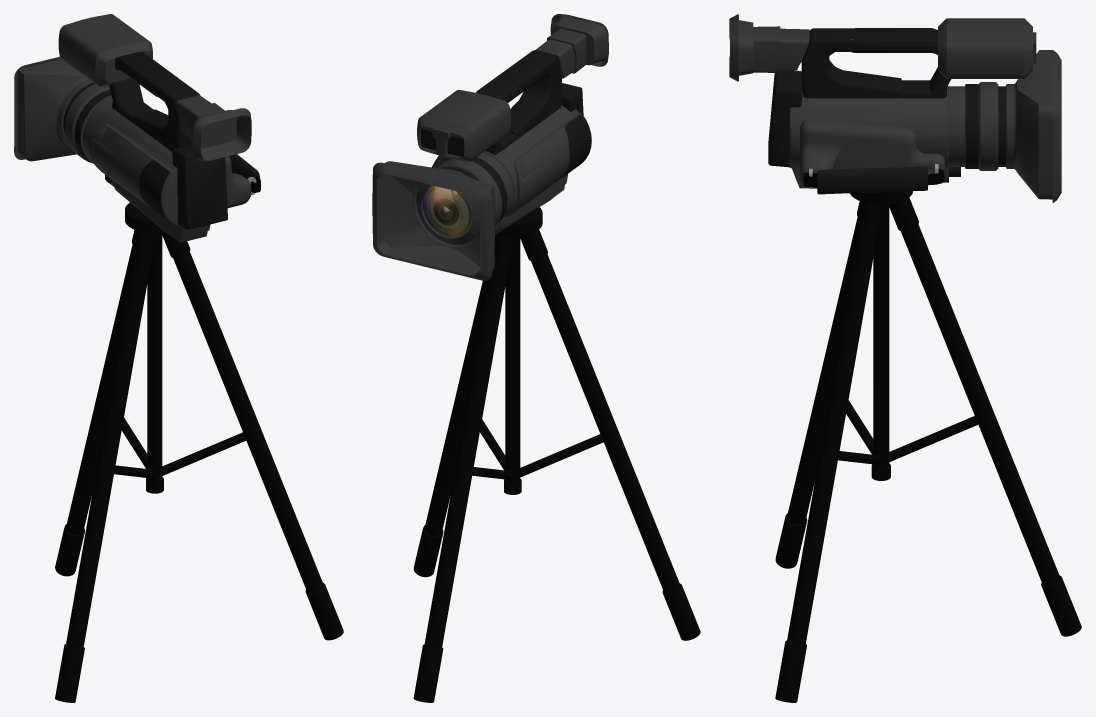
File: Sketchfab_2023_09_19_16_52_27.fbx
3 views of the same model, side by side, from view 1: azimuth 30°, elevation 25°; view 2: azimuth 150°, elevation 25°; view 3: azimuth 270°, elevation 25° (orthographic). The views are drawn at different scales.
Visible parts, largest first — view 1: video_camera, tripod; view 2: video_camera, tripod; view 3: video_camera, tripod.
Part boxes in pixels (x1,y1,x2,y2): video_camera: (14,14,260,242); tripod: (55,202,343,702); video_camera: (372,14,608,280); tripod: (413,207,700,702); video_camera: (729,14,1061,202); tripod: (775,191,1081,702).
Size of the model in its own units: 110 by 211 by 111.
